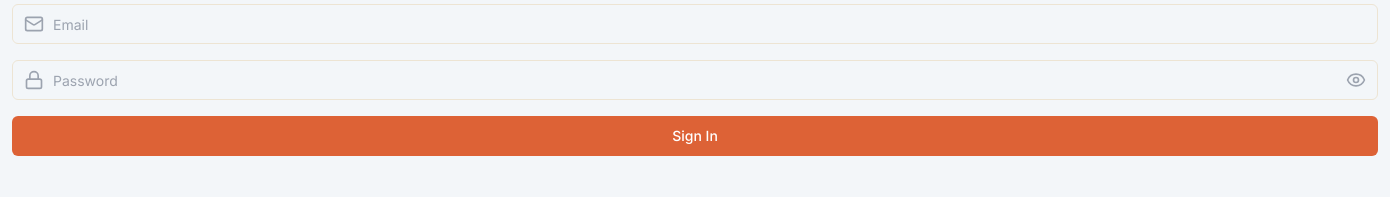
it: SignInForm › updates validation in real-time
# Test email validation
Type "invalid" into the field with placeholder "Email".
click(695, 24); type("invalid")  # box [12,4,1378,44]
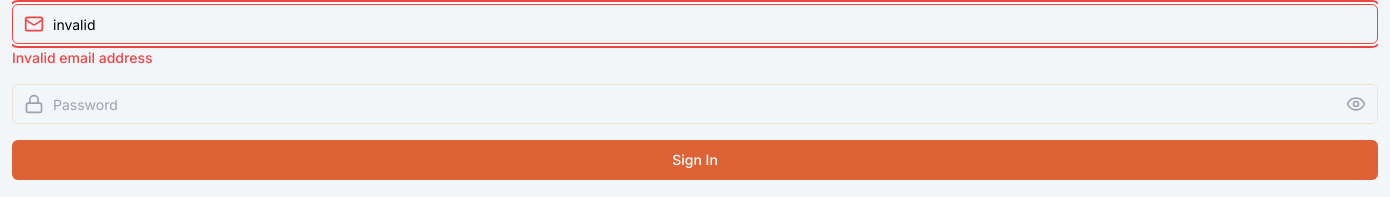
expect the text "Invalid email address" is shown: met, box [12,49,152,66]
Type "@example.com" into the field with placeholder "Email".
click(695, 24); type("@example.com")  # box [12,4,1378,44]
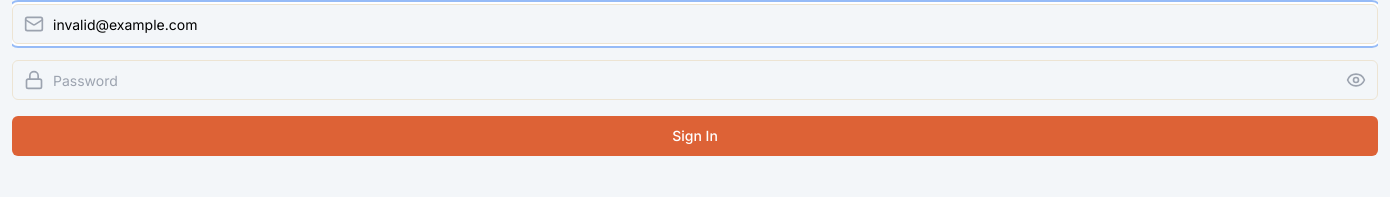
expect the text "Invalid email address" is gone: met
# Test password validation
Type "short" into the password field with placeholder "Password".
click(695, 80); type("short")  # box [12,60,1378,100]
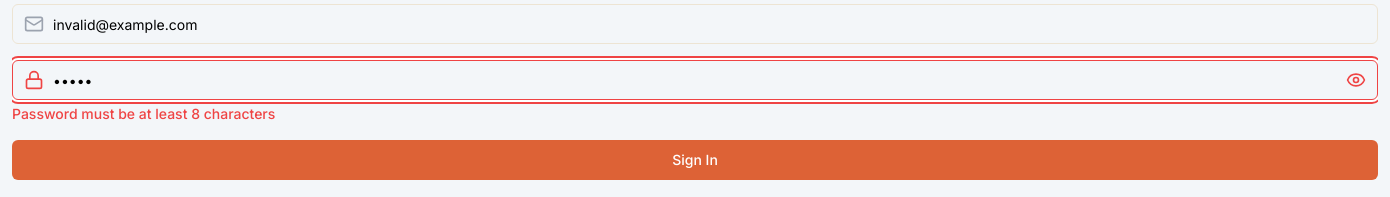
expect the text "Password must be at least 8 characters" is shown: met, box [12,105,275,122]
Type "password123" into the password field with placeholder "Password".
click(695, 80); type("password123")  # box [12,60,1378,100]
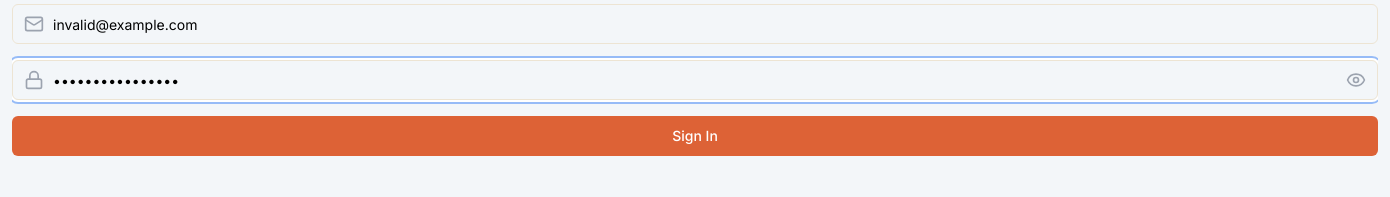
expect the text "Password must be at least 8 characters" is gone: met
